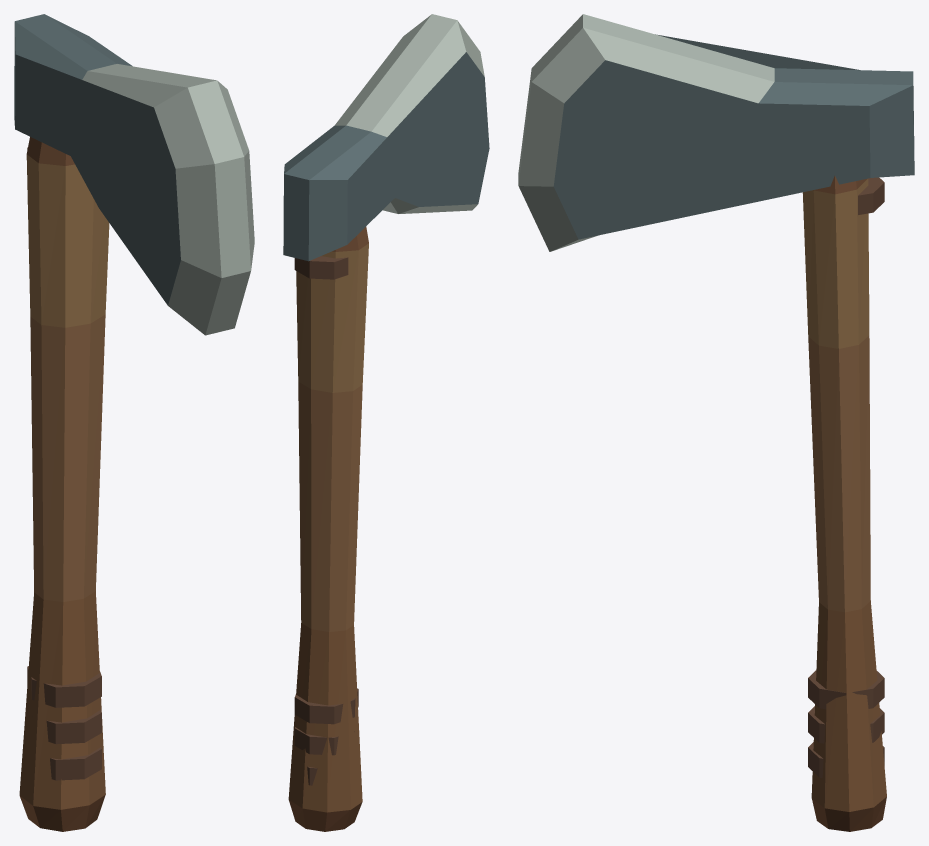
Rendered from Axe.glb.
3 views of the same model, side by side, from view 1: azimuth 30°, elevation 25°; view 2: azimuth 150°, elevation 25°; view 3: azimuth 270°, elevation 25° (orthographic). The views are drawn at different scales.
Visible parts, largest first — view 1: AxeMesh; view 2: AxeMesh; view 3: AxeMesh.
Part boxes in pixels (x1,y1,x2,y2): AxeMesh: (14, 14, 254, 831); AxeMesh: (283, 14, 489, 831); AxeMesh: (518, 14, 914, 831).
Size of the model in its own units: 0.0718 by 0.7356 by 0.331.
